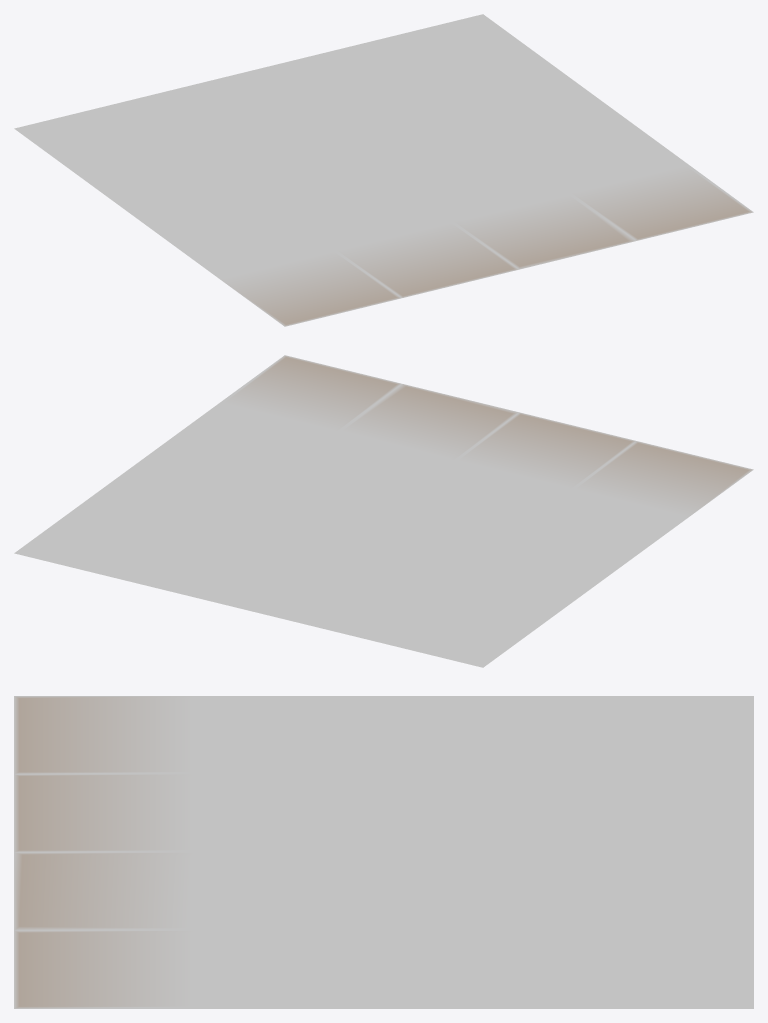
The model's file is NF_Env_Pavement 04.fbx.
3 views of the same model, one above another, from view 1: azimuth 30°, elevation 25°; view 2: azimuth 150°, elevation 25°; view 3: azimuth 270°, elevation 25° (orthographic). The views are drawn at different scales.
Parts seen in each view (by area): view 1: Pavement 4; view 2: Pavement 4; view 3: Pavement 4.
Boxes of the visible parts, x1=… form: Pavement 4: x1=14, y1=14, x2=753, y2=326; Pavement 4: x1=14, y1=355, x2=753, y2=667; Pavement 4: x1=14, y1=696, x2=753, y2=1008.
Size of the model in its own units: 5 by 0 by 5.
